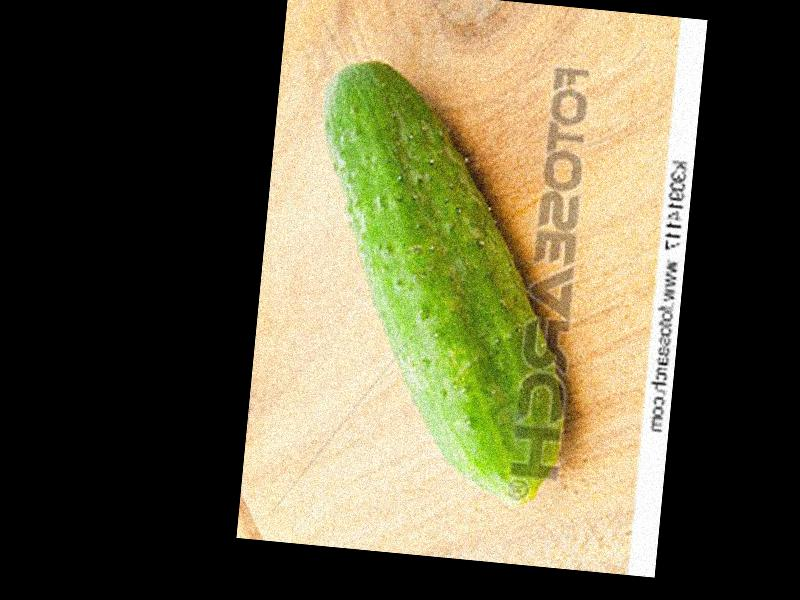Cucumber: (288, 56, 599, 509)
